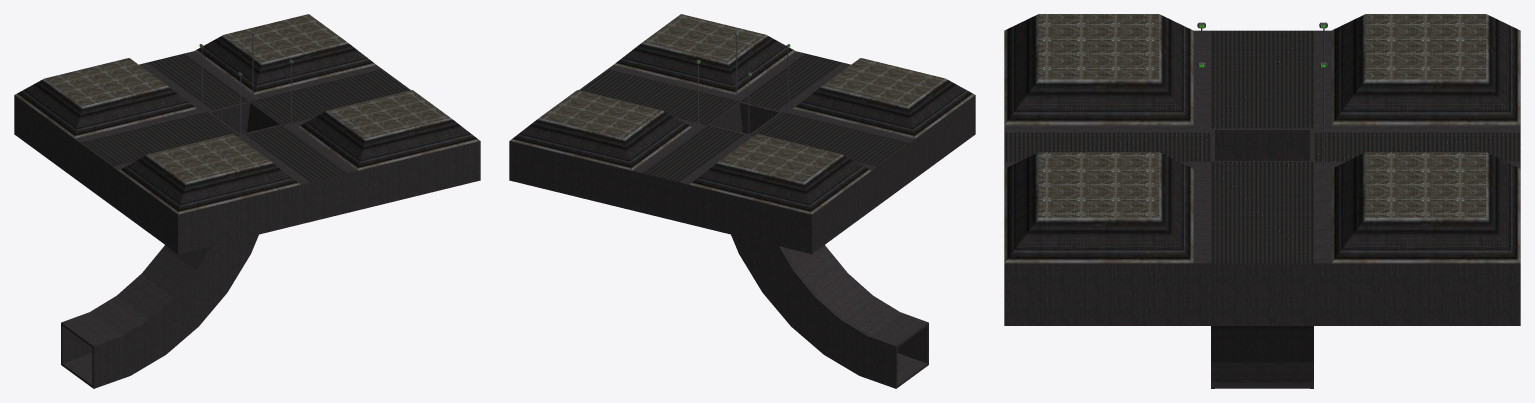
File: core_structure.fbx
The picture shows the model from 3 angles, left to right: view 1: azimuth 30°, elevation 25°; view 2: azimuth 150°, elevation 25°; view 3: azimuth 270°, elevation 25°; orthographic projection. The views are drawn at different scales.
Visible parts, largest first — view 1: Object; view 2: Object; view 3: Object.
Boxes of the visible parts, x1=… form: Object: x1=14, y1=14, x2=480, y2=388; Object: x1=509, y1=14, x2=975, y2=388; Object: x1=1004, y1=14, x2=1520, y2=388.
Bounding box in the file's own units: 13600 × 11450 × 12000.
